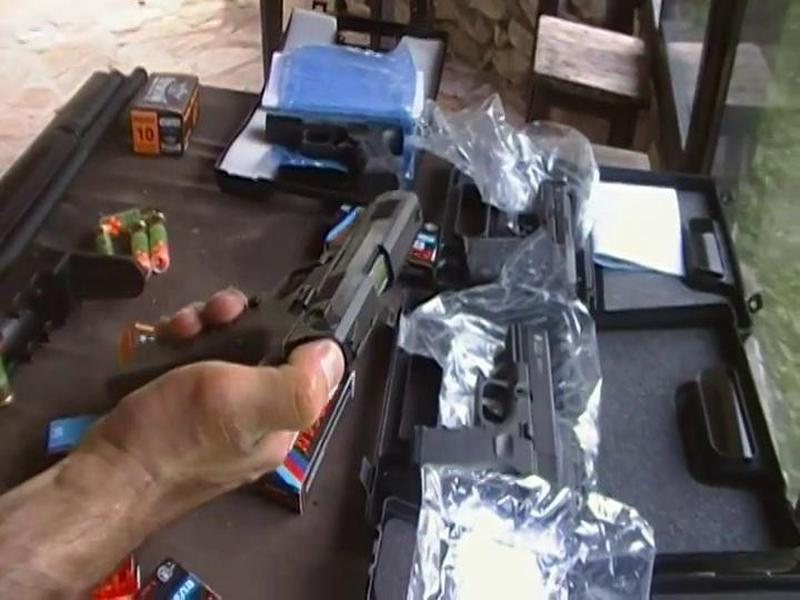Pistola: (112, 183, 433, 414)
